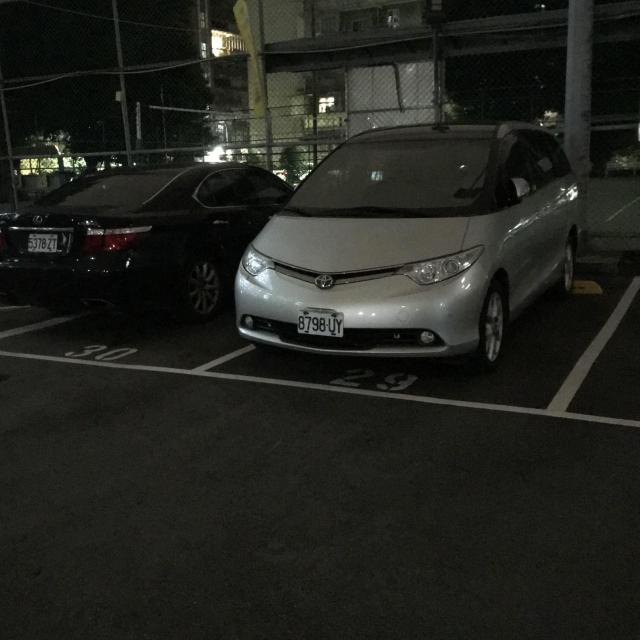W: (292, 303, 349, 342), (23, 228, 62, 254)
